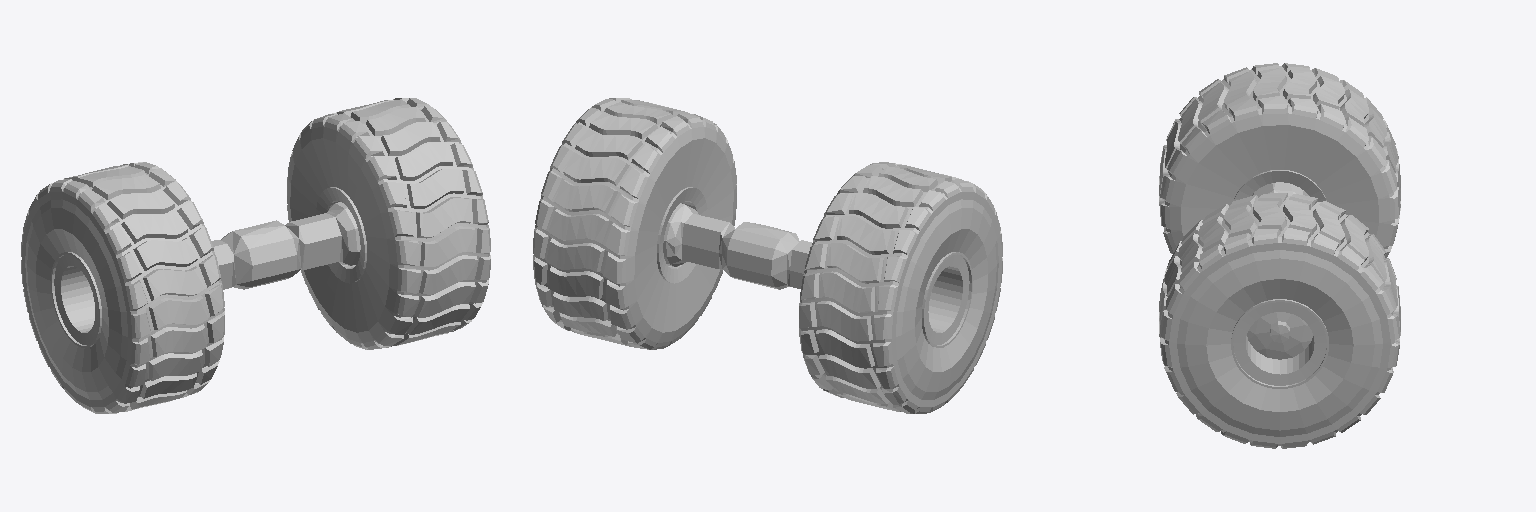
Rendered from BWMaquina.obj.
The picture shows the model from 3 angles: view 1: azimuth 30°, elevation 25°; view 2: azimuth 150°, elevation 25°; view 3: azimuth 270°, elevation 25°; orthographic projection.
Parts seen in each view (by area): view 1: wheel_low.001, wheel_cilinder_low.001, wheel_cilinder_inside_low.001; view 2: wheel_low.001, wheel_cilinder_low.001, wheel_cilinder_inside_low.001; view 3: wheel_low.001, wheel_cilinder_inside_low.001, wheel_cilinder_low.001.
Boxes of the visible parts, x1=… form: wheel_low.001: x1=21, y1=98, x2=490, y2=413; wheel_cilinder_low.001: x1=211, y1=202, x2=360, y2=289; wheel_cilinder_inside_low.001: x1=51, y1=187, x2=366, y2=347; wheel_low.001: x1=533, y1=98, x2=1002, y2=413; wheel_cilinder_low.001: x1=663, y1=203, x2=811, y2=289; wheel_cilinder_inside_low.001: x1=657, y1=187, x2=972, y2=347; wheel_low.001: x1=1159, y1=63, x2=1400, y2=448; wheel_cilinder_inside_low.001: x1=1231, y1=170, x2=1328, y2=388; wheel_cilinder_low.001: x1=1247, y1=182, x2=1312, y2=359.
Bounding box in the file's own units: 3.59 × 2.04 × 2.04.